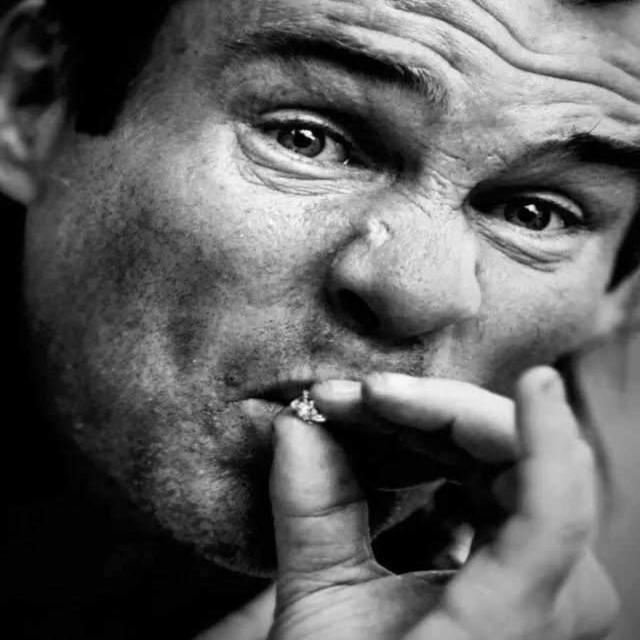smoking: (5, 6, 640, 555)
